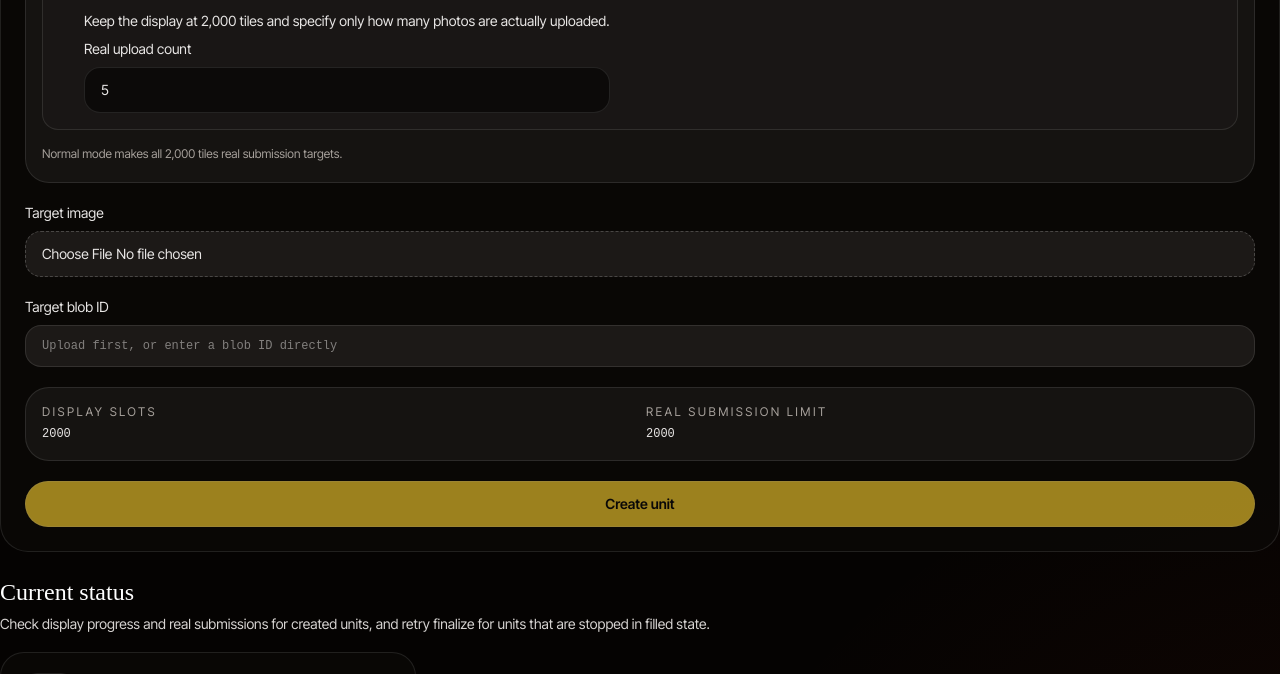
Scenario: AdminClient › submits a normal unit with full display slots
The image size is (1280, 674).
(page scrolled)
Expected: the field labelled "unit ID" is not shown
Type "target-blob-7" into the field labelled "Target blob ID" at (640,346), box [25,325,1255,367]
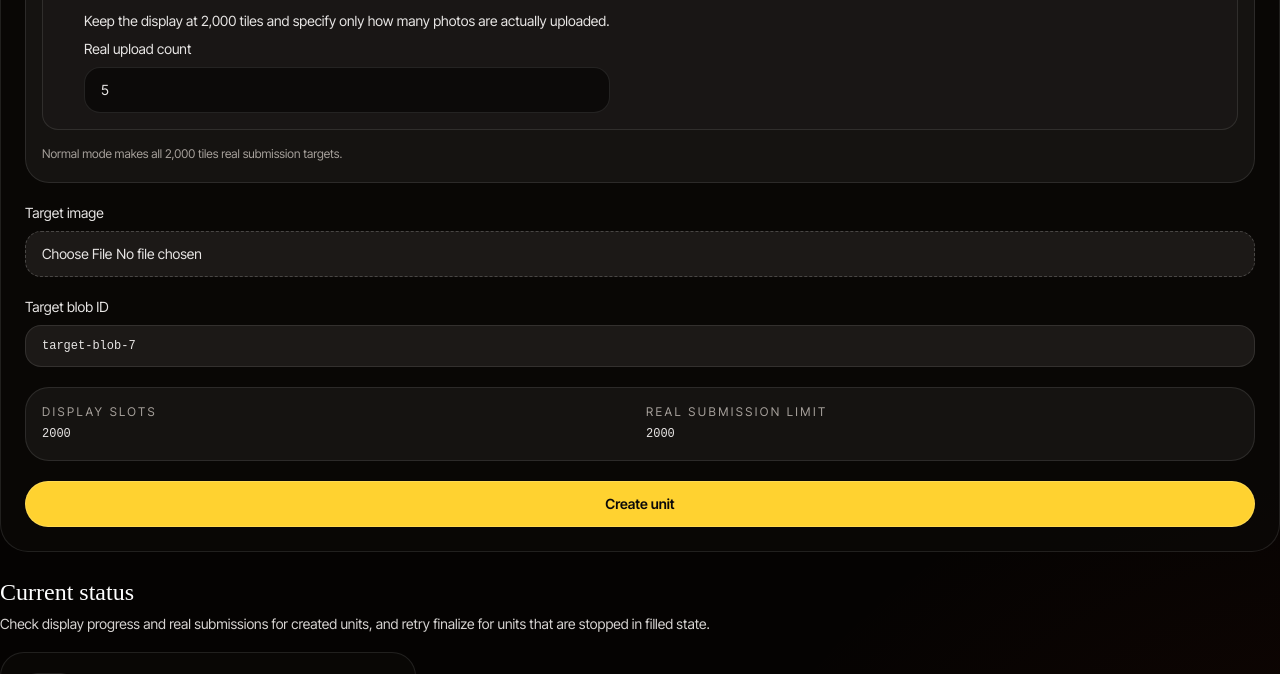
Click the button "Create unit" at (640,504), box [25,481,1255,527]
(page scrolled)
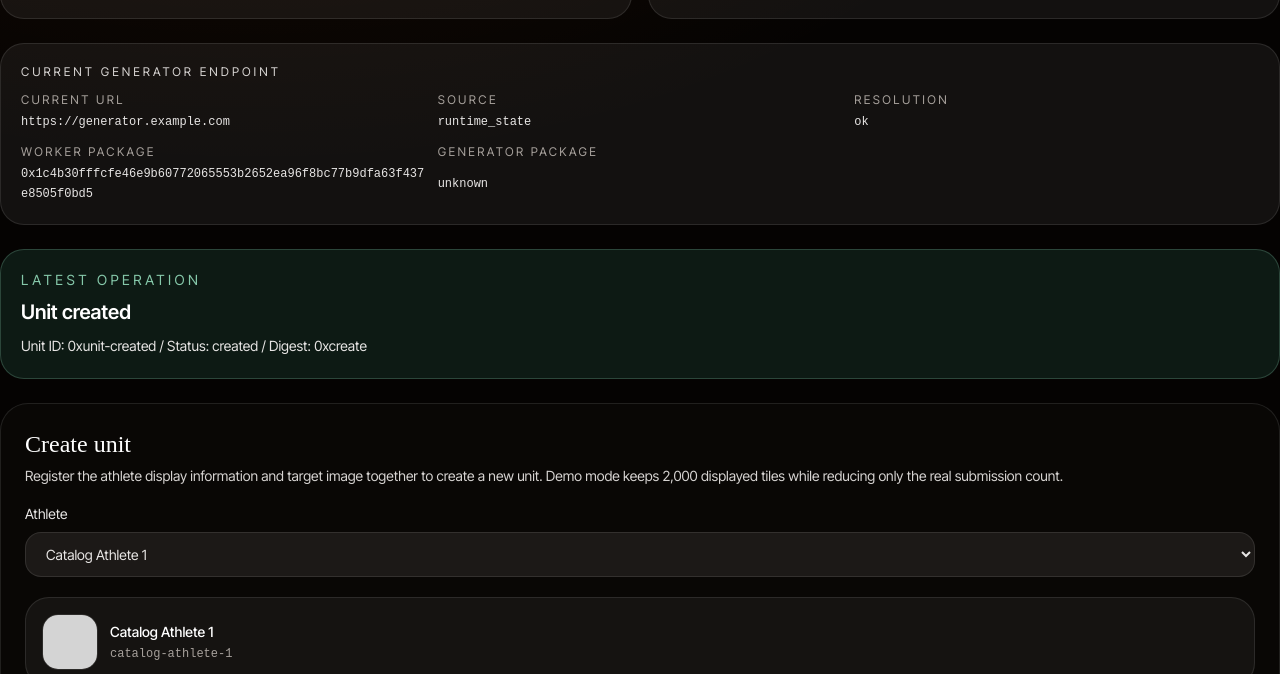
Expected: the text "Unit created" is shown, [21,300,131,324]
Expected: the text "Unit ID: 0xunit-created / Status: created / Digest: 0xcreate" is shown, [21,337,367,354]
